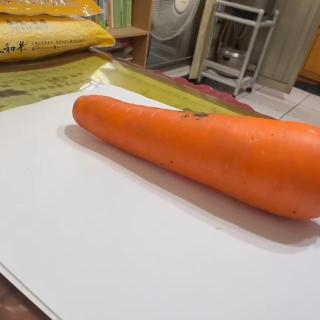carrot: (69, 91, 320, 219)
